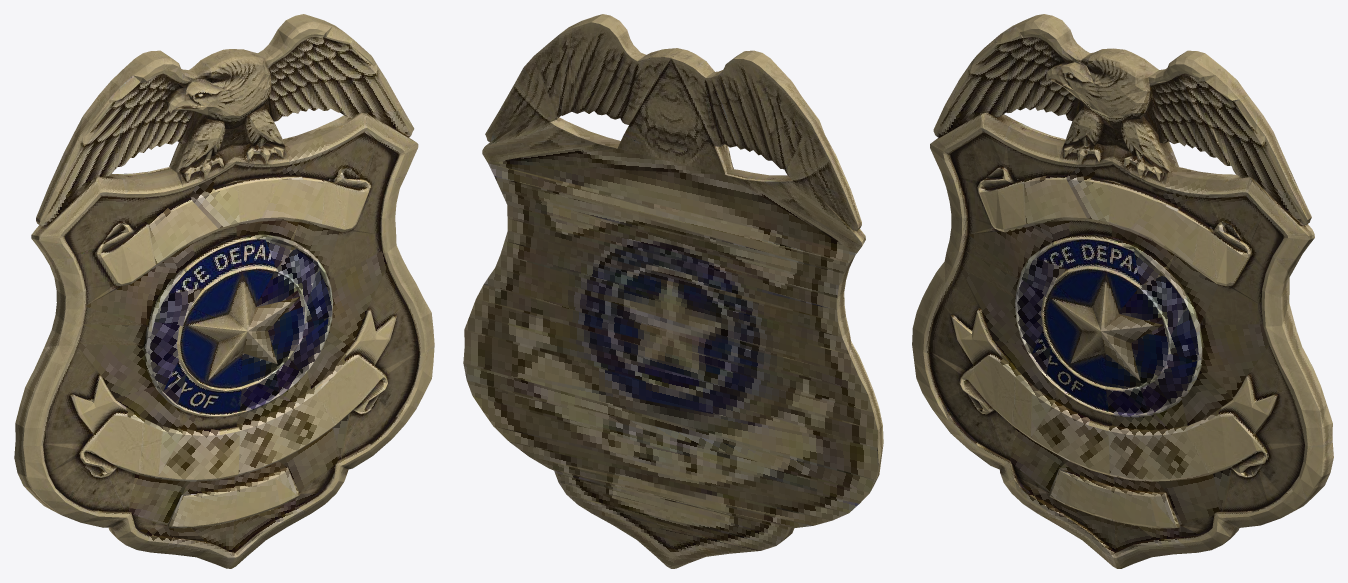
File: ewm_policebadge.glb
3 renders of one model, left to right at view 1: azimuth 30°, elevation 25°; view 2: azimuth 150°, elevation 25°; view 3: azimuth 330°, elevation 25°, orthographic.
Parts seen in each view (by area): view 1: ewm_policebadge; view 2: ewm_policebadge; view 3: ewm_policebadge.
Boxes of the visible parts, x1,y1,x2,y2 form: ewm_policebadge: (14,14,434,568); ewm_policebadge: (463,14,883,568); ewm_policebadge: (912,14,1333,568).
Bounding box in the file's own units: 0.07 × 0.085 × 0.00724.
Materials: 1 (1 with a texture image).
